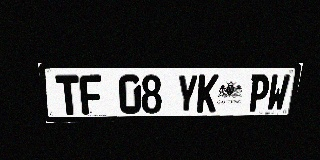0: (119, 75, 140, 114)
8: (141, 75, 162, 113)
F: (79, 75, 103, 114)
K: (196, 74, 219, 112)
P: (247, 74, 271, 111)
T: (55, 75, 81, 115)
W: (266, 74, 291, 111)
Y: (176, 74, 198, 113)
